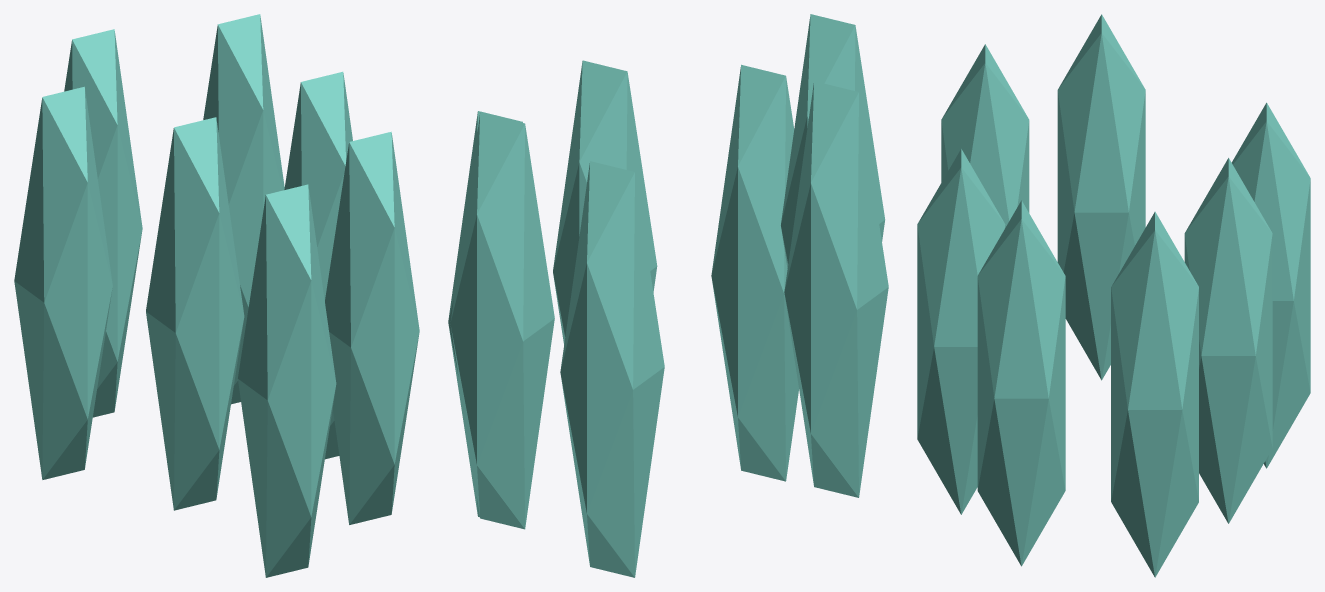
Rendered from discovery-glass-coral.glb.
3 views of the same model, side by side, from view 1: azimuth 30°, elevation 25°; view 2: azimuth 150°, elevation 25°; view 3: azimuth 270°, elevation 25° (orthographic). The views are drawn at different scales.
Parts seen in each view (by area): view 1: glass-branch (×7); view 2: glass-branch (×7); view 3: glass-branch (×7).
Boxes of the visible parts, x1,y1,x2,y2 form: glass-branch (×7): [14, 14, 419, 577]; glass-branch (×7): [448, 14, 888, 577]; glass-branch (×7): [917, 14, 1310, 577].
Bounding box in the file's own units: 4.37 × 5.39 × 4.6.
